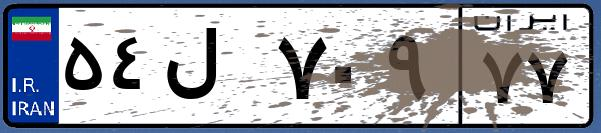0: (330, 28, 385, 110)
4: (110, 28, 158, 98)
5: (57, 26, 110, 100)
7: (270, 28, 330, 110), (475, 38, 525, 113), (525, 38, 570, 115)
9: (385, 28, 445, 110)
ل: (158, 20, 270, 120)
